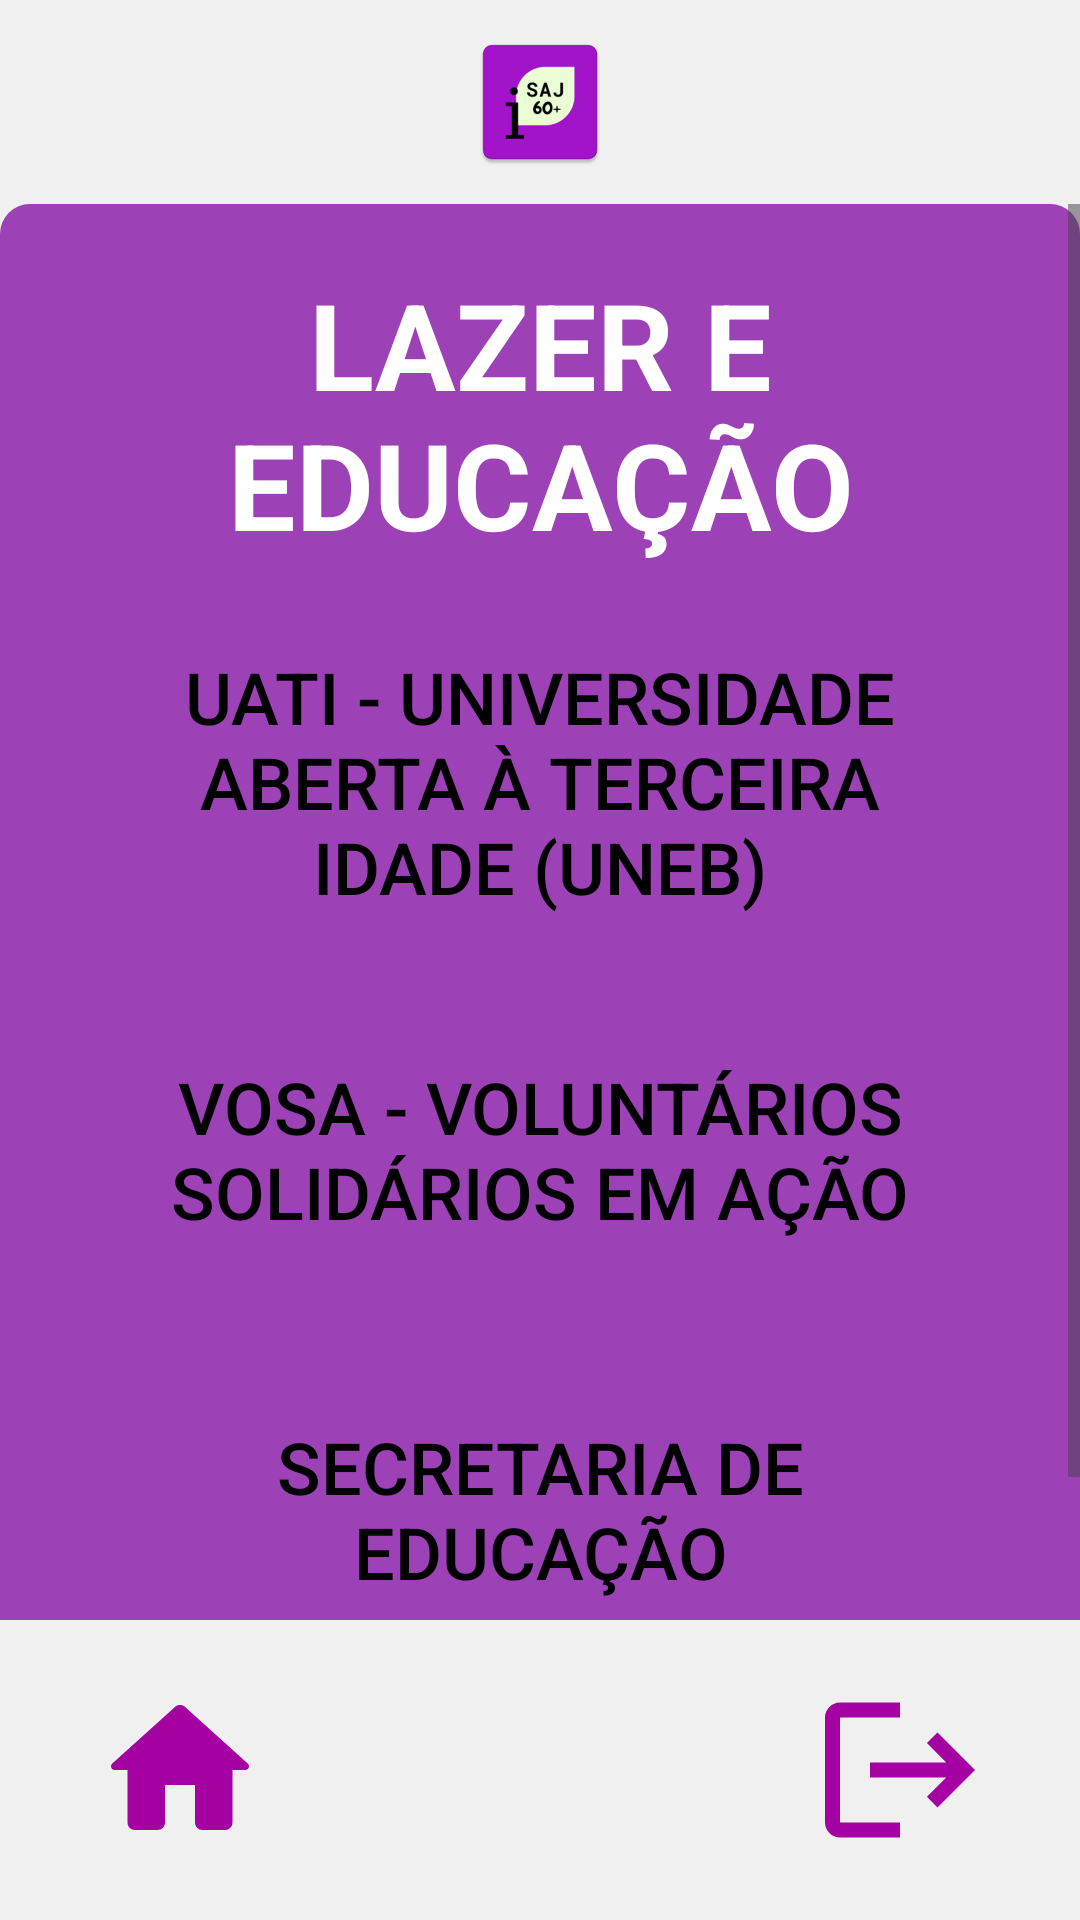

Locate icon controls on the screen. Image size 1080 × 1920, boxes as (x1, y1, x2, y2).
home: (111, 1705, 249, 1830)
